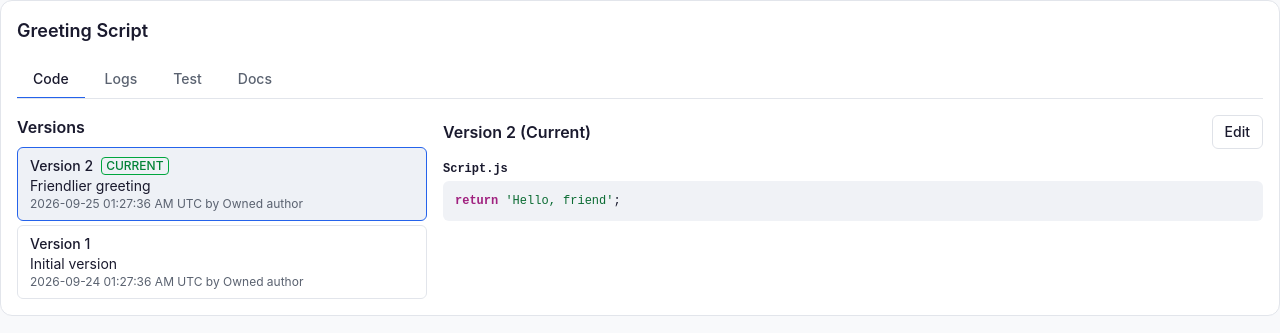
Test case: AssociatedScriptViewer › selects an older version and offers Edit and Activate
Click the 3rd button. click: x=57, y=244
box: [17, 225, 427, 299]
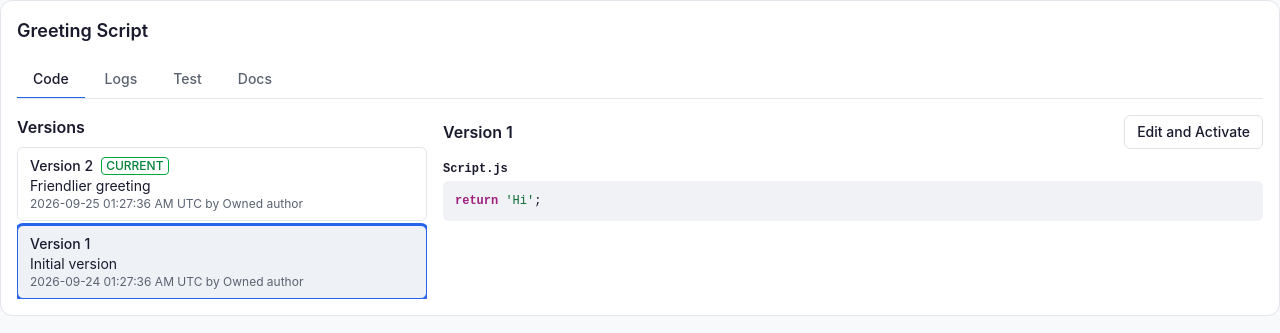
expect the element showing "return 'Hi';" is shown: met, box [443, 181, 1263, 221]
expect the button "Edit and Activate" is shown: met, box [1124, 115, 1263, 149]
